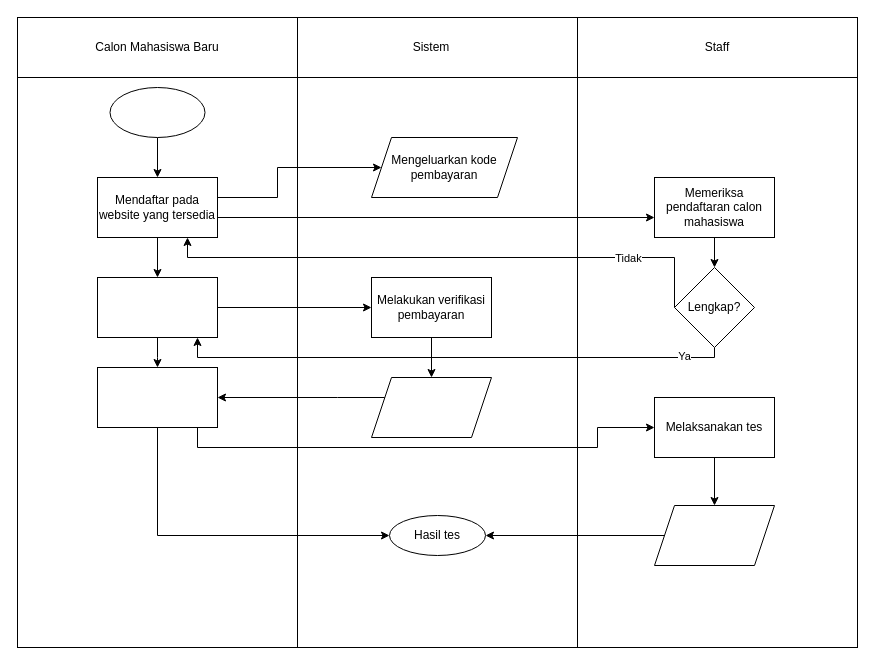
The diagram is 875 pixels wide and 665 high, and some of its shapes have lost their labels. The box of each missing label's shape, as (x1, y1, x2, y2) in pixels:
Input hasil tes: (654, 504, 774, 566)
Melakukan pembayaran melalui bank/transfer: (96, 276, 218, 338)
Melakukan tes tertulis: (96, 366, 218, 428)
Mengeluarkan nomor peserta: (370, 376, 492, 438)
Mulai: (109, 86, 205, 138)
